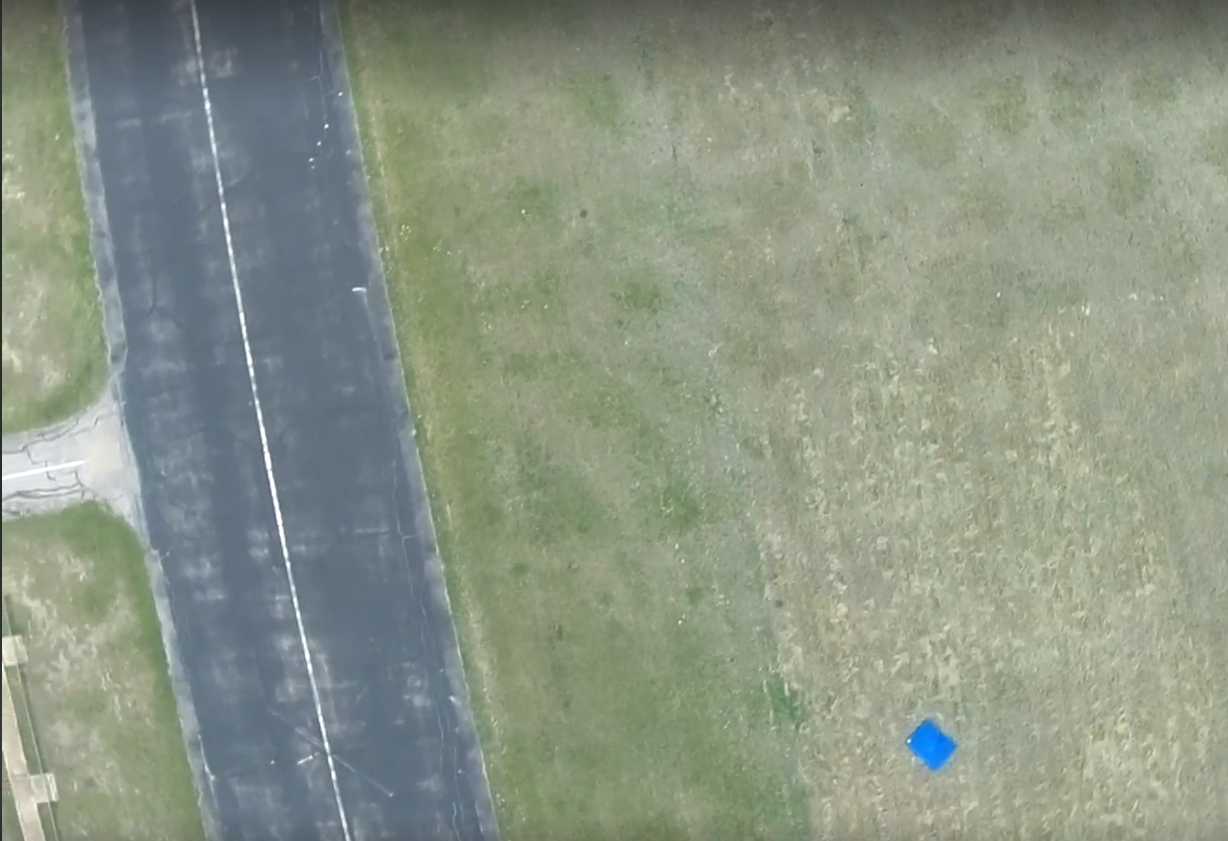TOI: (903, 718, 959, 774)
